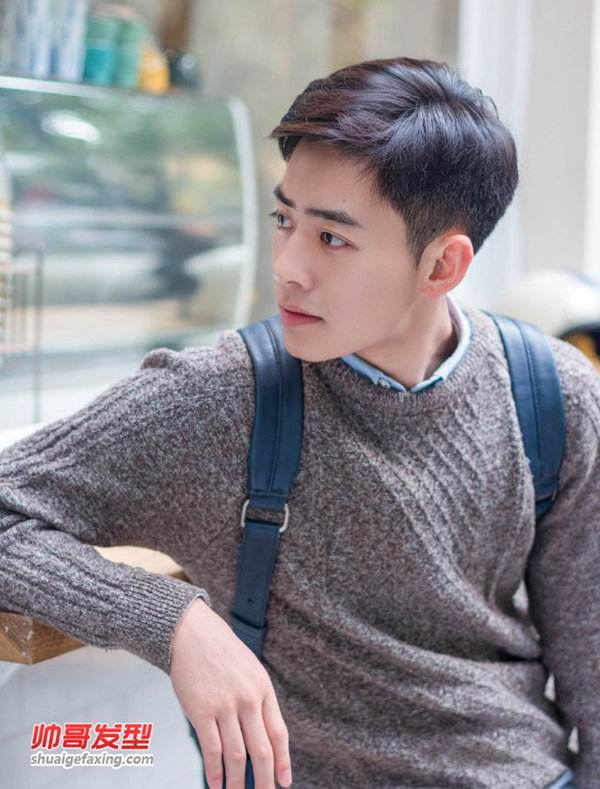person: (117, 61, 530, 789)
